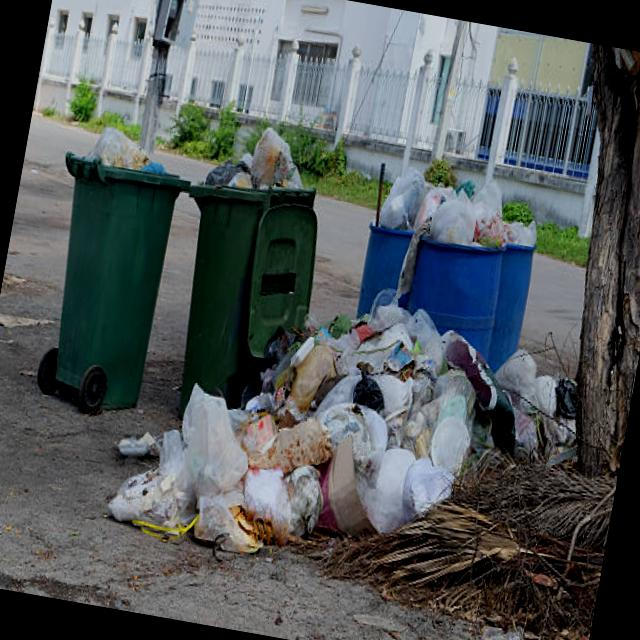garbage: (0, 72, 600, 616)
